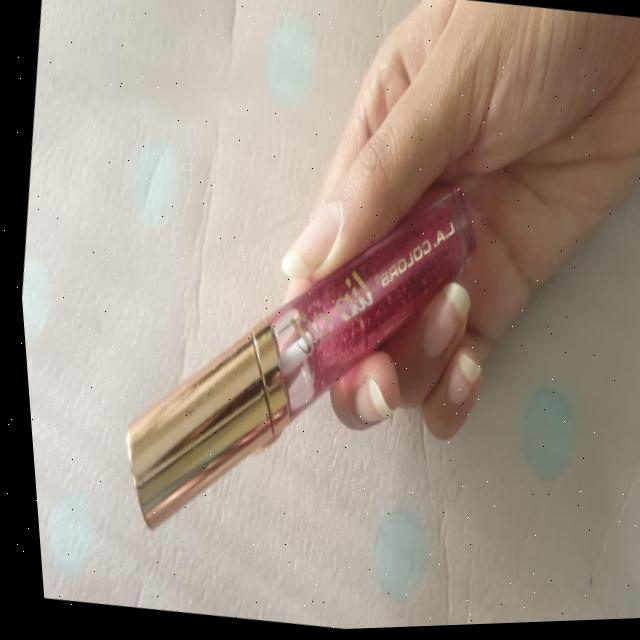lip gloss: (83, 116, 505, 586)
